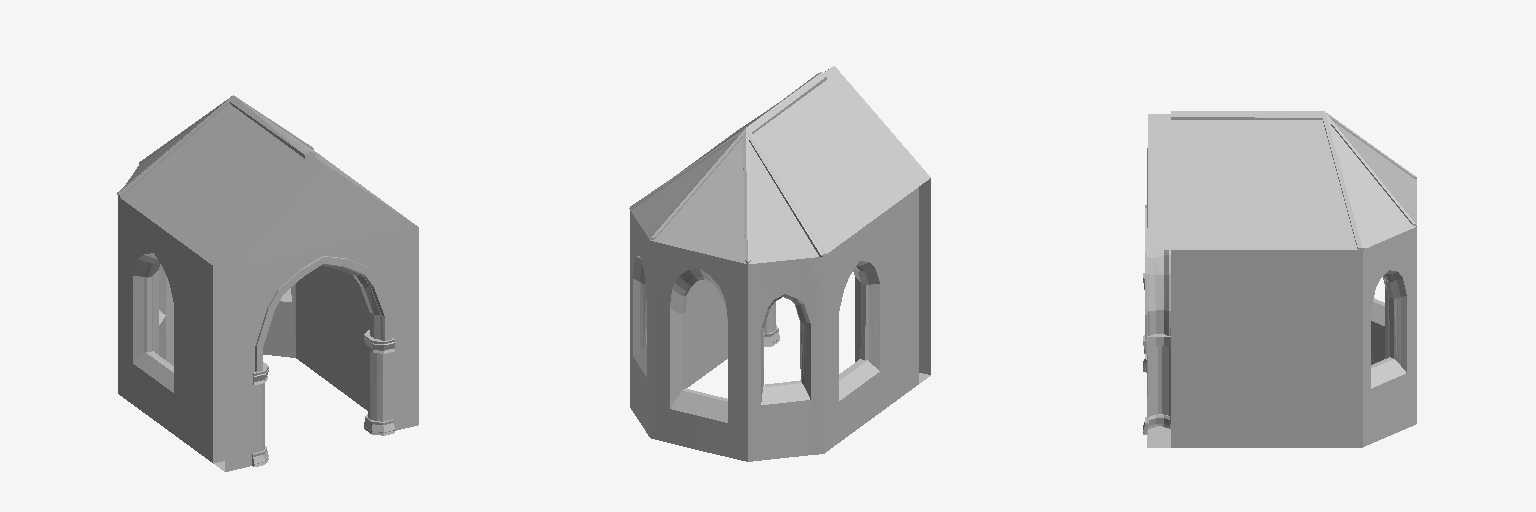
Rendered from NorthTranseptNorthFace.obj.
3 renders of one model, left to right at view 1: azimuth 30°, elevation 25°; view 2: azimuth 150°, elevation 25°; view 3: azimuth 270°, elevation 25°, orthographic.
Parts seen in each view (by area): view 1: NTWalls_Plane.005; view 2: NTWalls_Plane.005; view 3: NTWalls_Plane.005.
Part boxes in pixels (x1,y1,x2,y2): NTWalls_Plane.005: (117, 95, 418, 471); NTWalls_Plane.005: (629, 66, 930, 461); NTWalls_Plane.005: (1143, 111, 1416, 447).
Bounding box in the file's own units: 8.44 × 12.02 × 10.32.